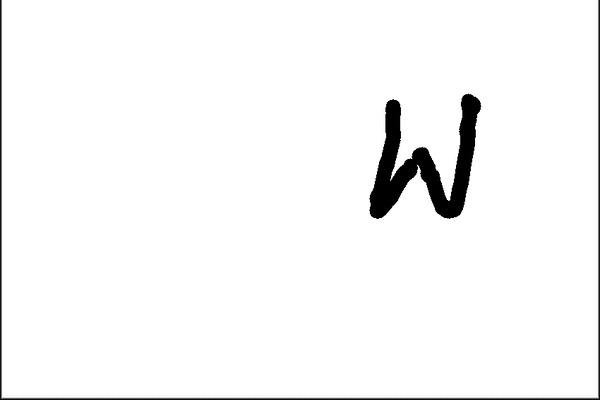w: (361, 88, 486, 227)
